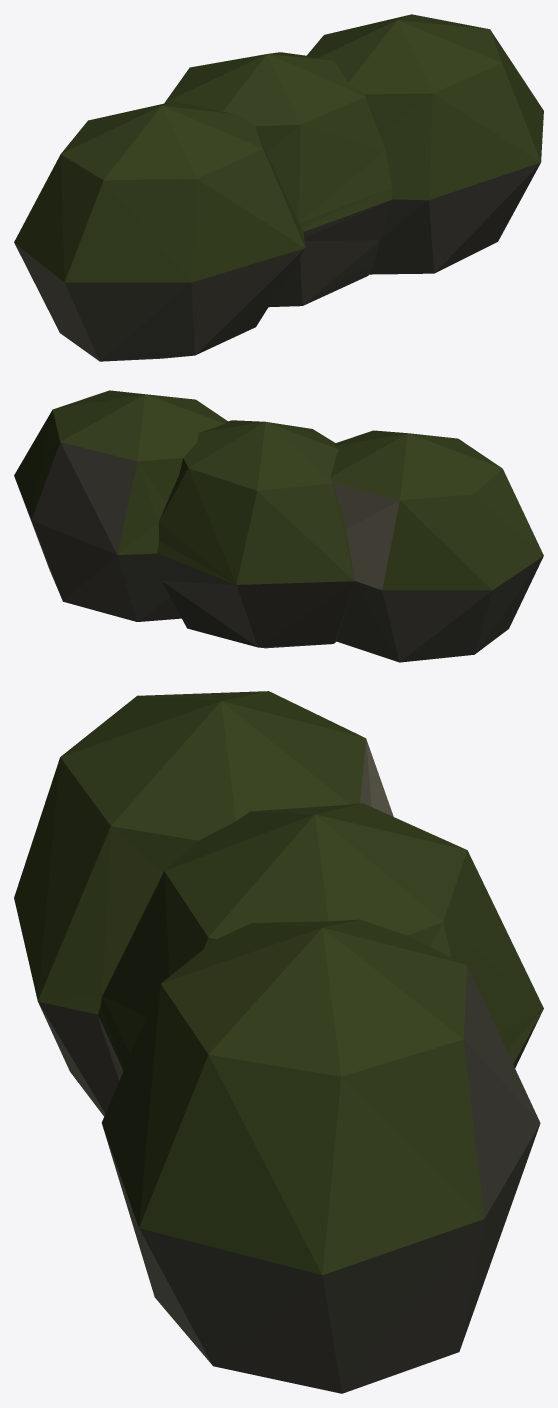
File: Rock_MossyCluster_02.fbx
The picture shows the model from 3 angles, top to bottom: view 1: azimuth 30°, elevation 25°; view 2: azimuth 150°, elevation 25°; view 3: azimuth 270°, elevation 25°; orthographic projection. The views are drawn at different scales.
Visible parts, largest first — view 1: Rock_MossyCluster_02_Mesh; view 2: Rock_MossyCluster_02_Mesh; view 3: Rock_MossyCluster_02_Mesh.
Boxes of the visible parts, left/top/right/bottom form: Rock_MossyCluster_02_Mesh: left=14, top=14, right=543, bottom=361; Rock_MossyCluster_02_Mesh: left=14, top=390, right=543, bottom=662; Rock_MossyCluster_02_Mesh: left=14, top=691, right=543, bottom=1393.
Size of the model in its own units: 1.46 by 0.66 by 0.7137.
1 material, 1 textured.
